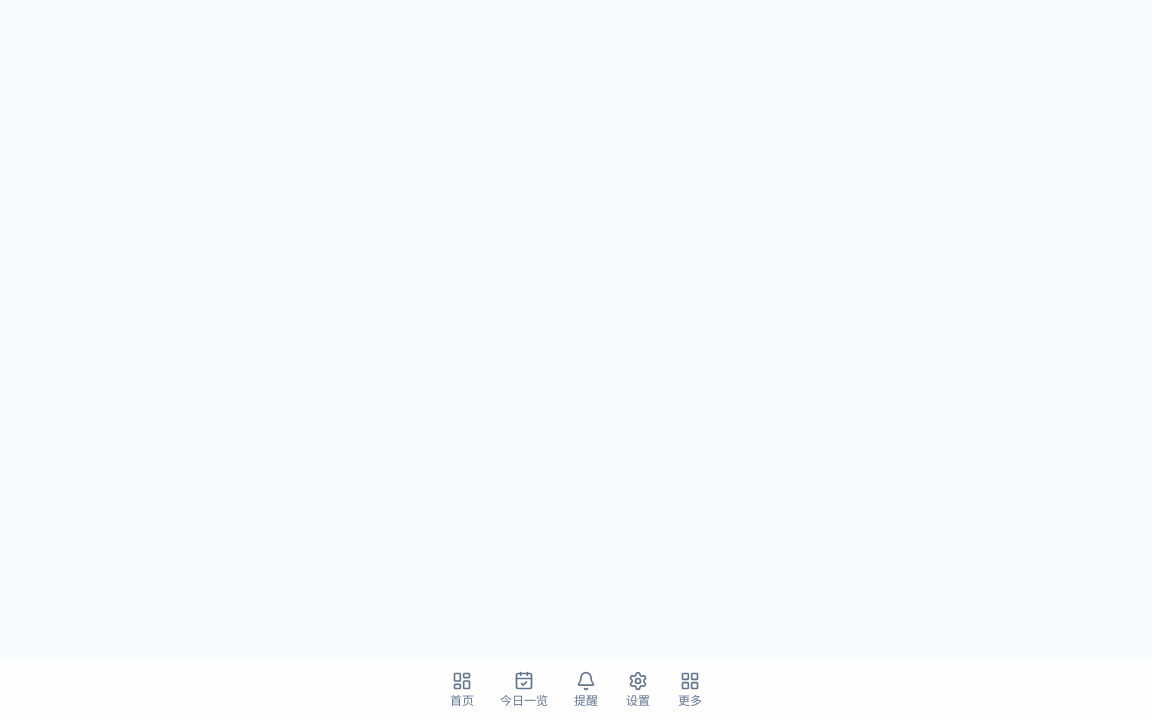
Test: 导航可达性 › 面板打开后点击某项会导航并关闭面板
Click the button "更多" at (690, 690), box [668,668,712,712]
(page scrolled)
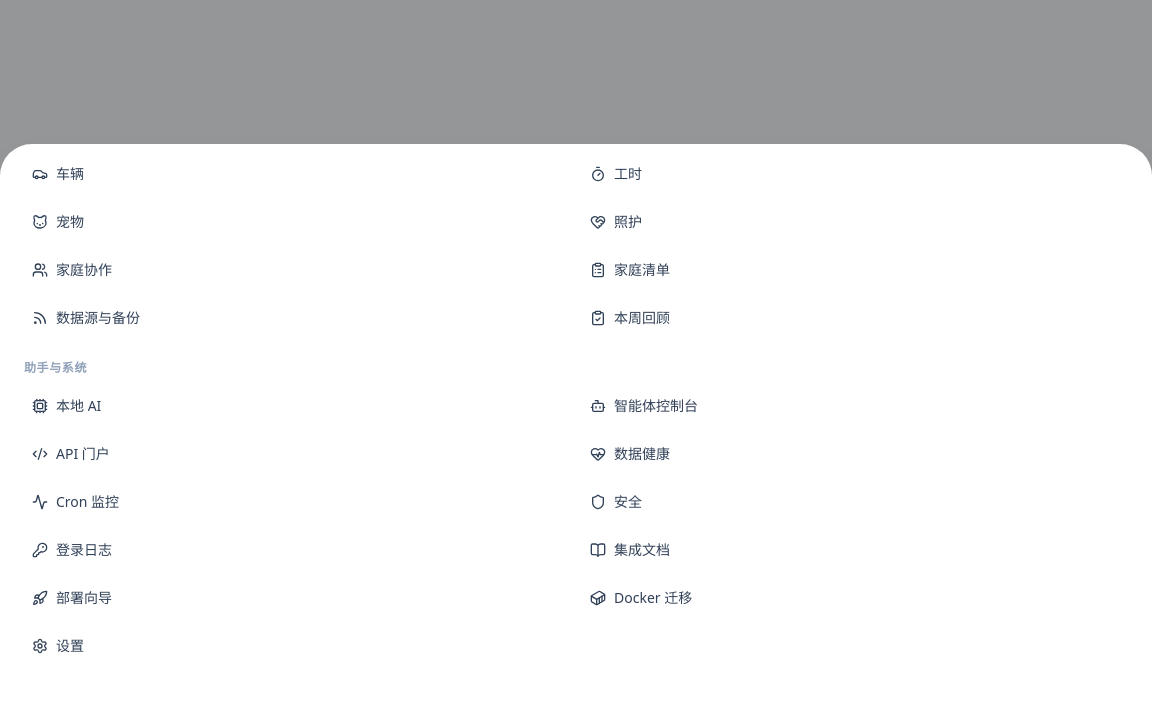
Click the button "Cron 监控" at (88, 502), box [20,480,574,524]
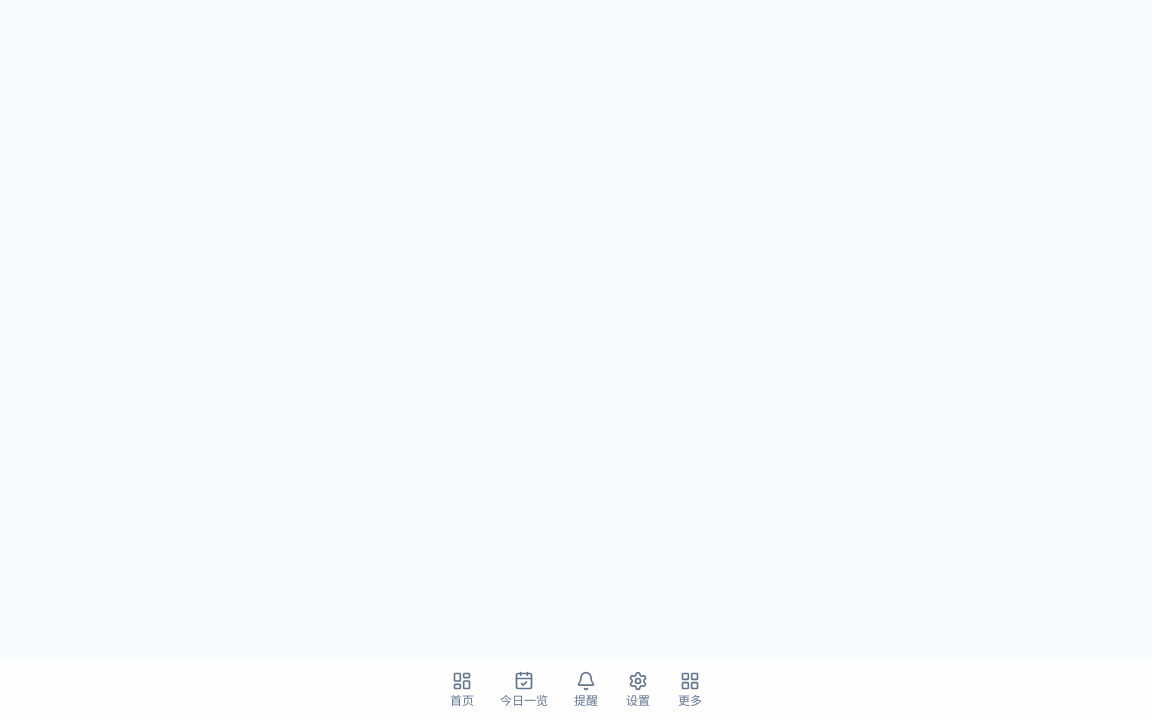
Check: the dialog is gone
